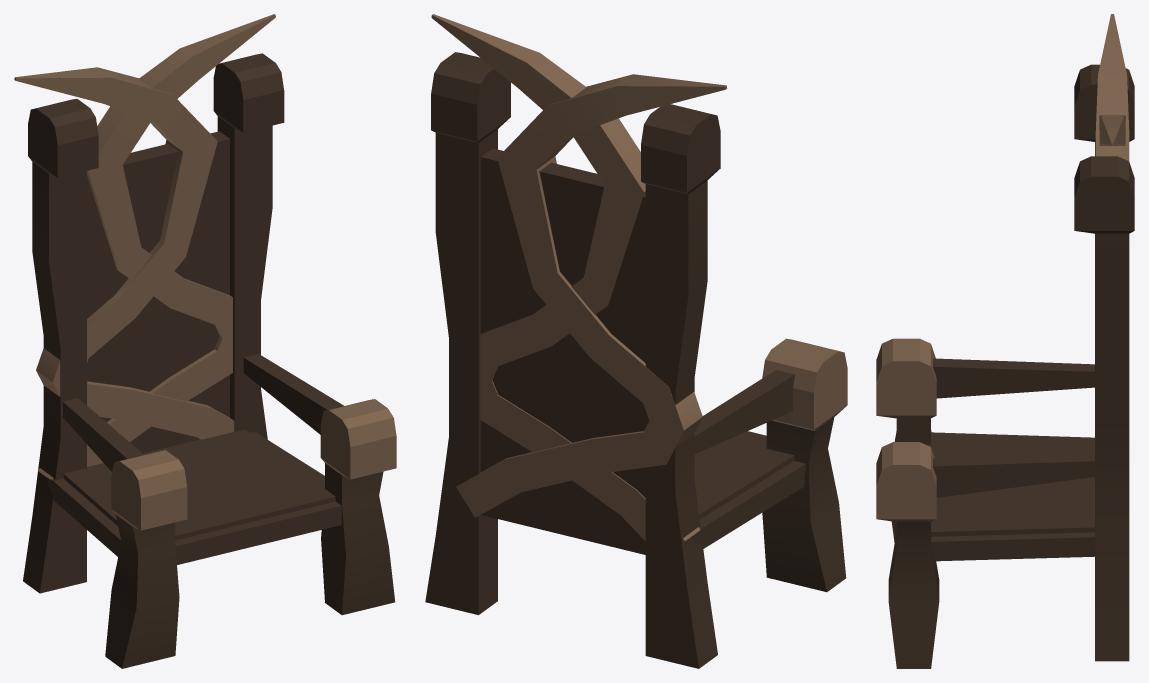
The model's file is SM_throne_norse.fbx.
The picture shows the model from 3 angles, left to right: view 1: azimuth 30°, elevation 25°; view 2: azimuth 150°, elevation 25°; view 3: azimuth 270°, elevation 25°; orthographic projection. The views are drawn at different scales.
Parts seen in each view (by area): view 1: Box026; view 2: Box026; view 3: Box026.
Part boxes in pixels (x1,y1,x2,y2): Box026: [14, 14, 396, 668]; Box026: [425, 14, 847, 668]; Box026: [876, 14, 1134, 668].
Bounding box in the file's own units: 45.11 × 80.86 × 36.41.
